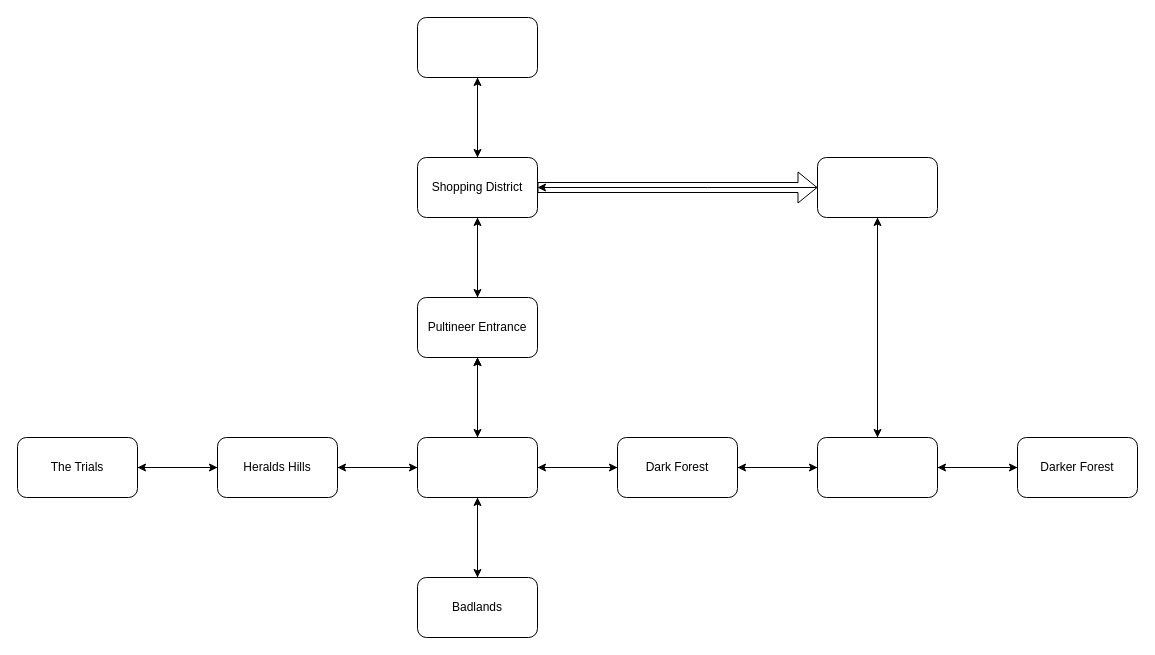
Image size: 1155x655. Some labels were removed from this diagram. Each missing label, with the centre of its shape:
Church District: (x=477, y=47)
Cracked Castle Wall: (x=877, y=187)
Forest Cottage: (x=877, y=467)
Krymn: (x=477, y=467)
